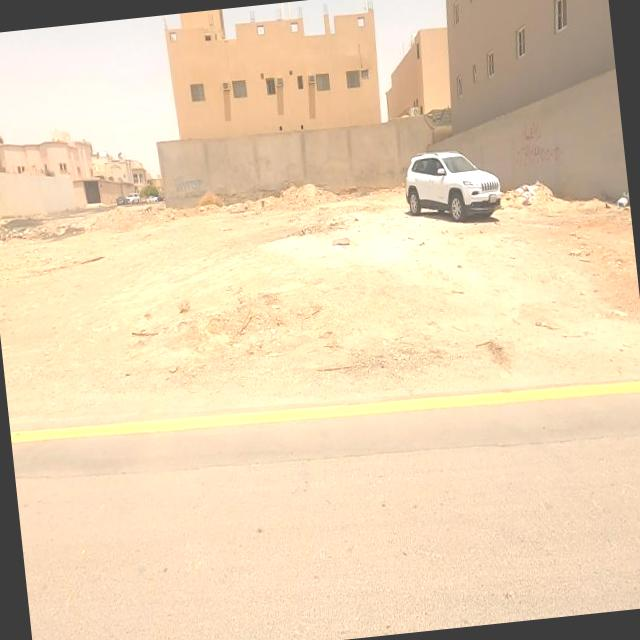debris: (482, 142, 578, 243), (586, 160, 634, 251)
